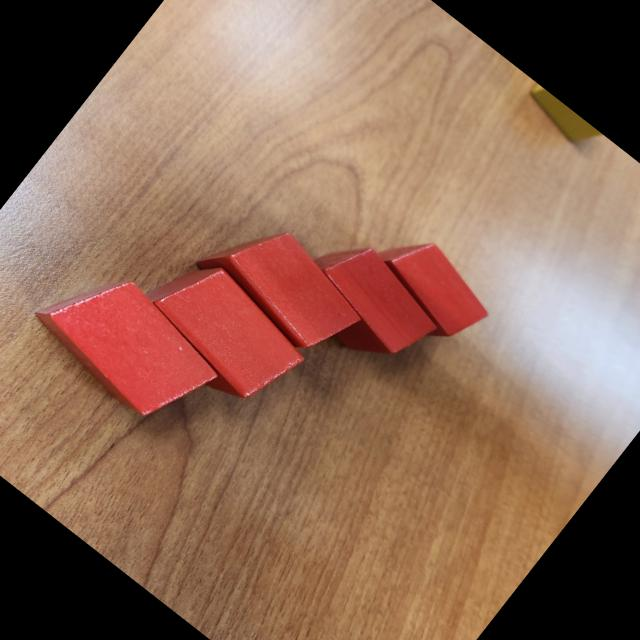red: (19, 245, 232, 442), (121, 240, 318, 426), (192, 198, 376, 368), (279, 222, 452, 386), (360, 221, 504, 358)
yellow: (514, 79, 608, 160)
